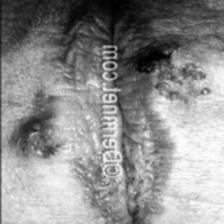Toxin: (137, 45, 209, 113), (4, 108, 64, 170), (127, 136, 163, 220)
